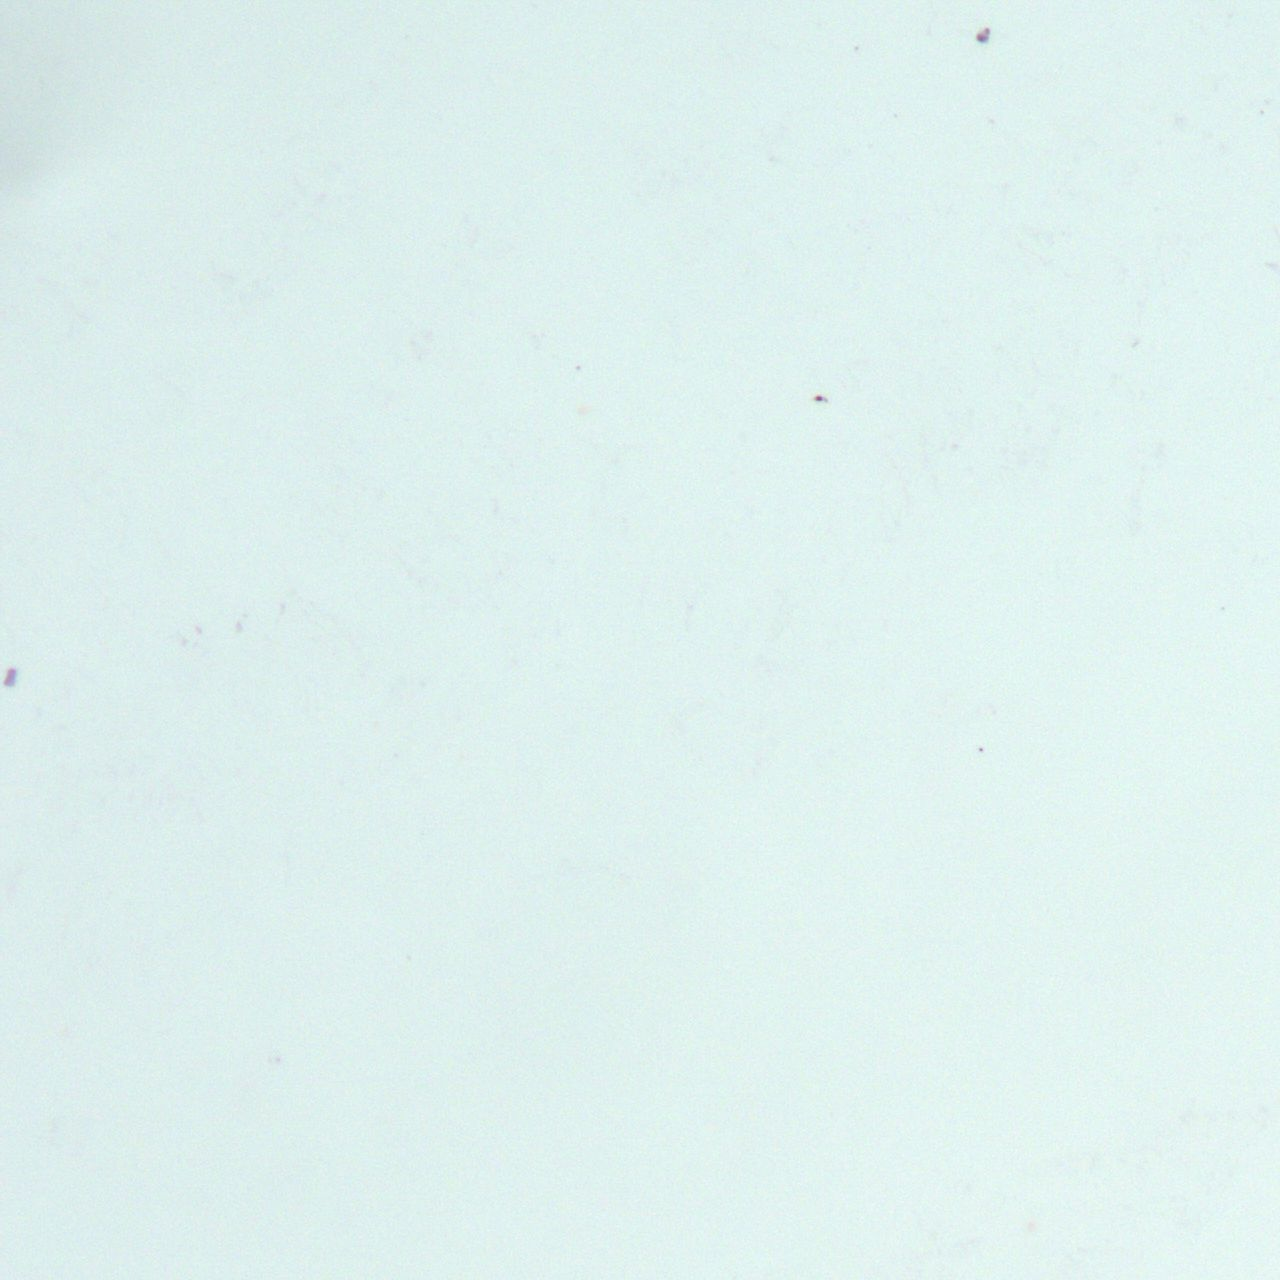dust: (975, 25, 992, 45)
